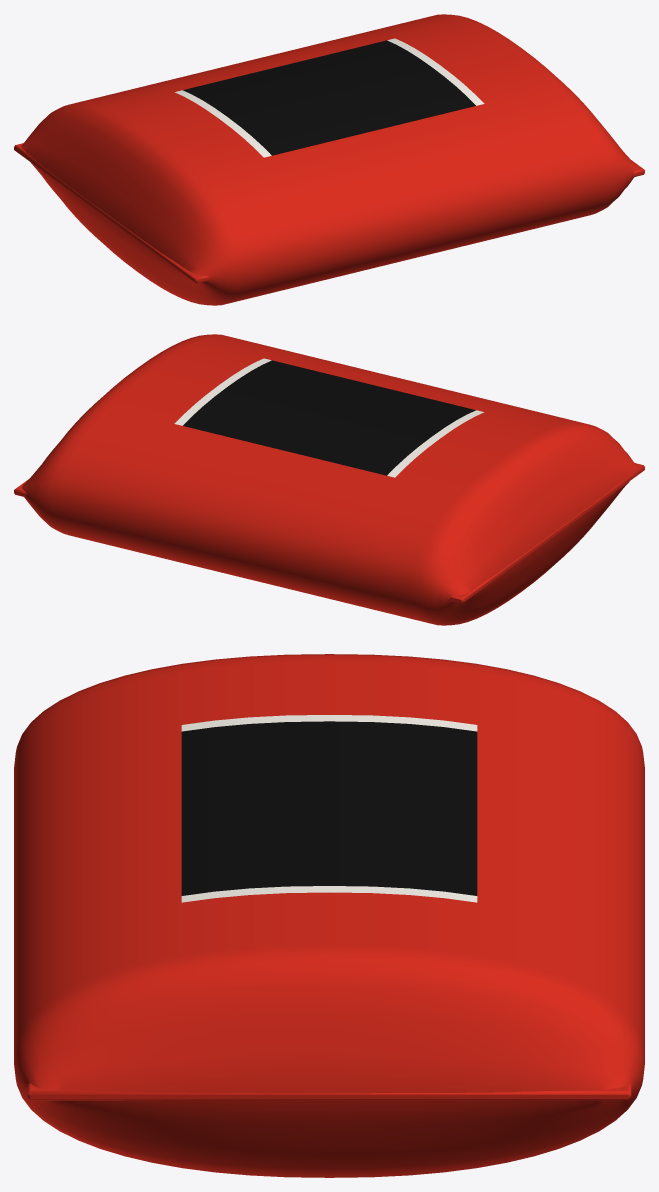
Rendered from item-shin-ramyun.glb.
3 views of the same model, one above another, from view 1: azimuth 30°, elevation 25°; view 2: azimuth 150°, elevation 25°; view 3: azimuth 270°, elevation 25° (orthographic). The views are drawn at different scales.
Visible parts, largest first — view 1: item-shin-ramyun; view 2: item-shin-ramyun; view 3: item-shin-ramyun.
Boxes of the visible parts, <box> form: item-shin-ramyun: <box>14,14,644,305</box>; item-shin-ramyun: <box>14,334,644,625</box>; item-shin-ramyun: <box>14,654,644,1177</box>.
Bounding box in the file's own units: 0.19 × 0.055 × 0.14.
